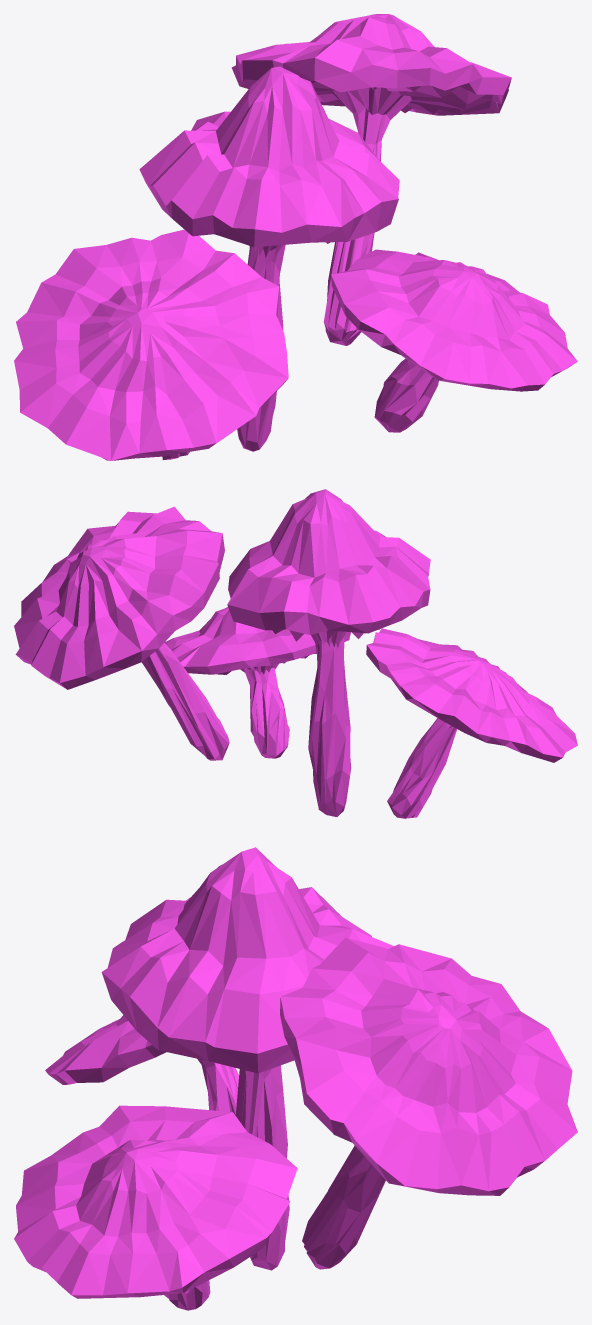
File: SM_Mushroom_Glow_Medium_Cluster_A_Fantasy.fbx
3 renders of one model, top to bottom at view 1: azimuth 30°, elevation 25°; view 2: azimuth 150°, elevation 25°; view 3: azimuth 270°, elevation 25°, orthographic. The views are drawn at different scales.
Visible parts, largest first — view 1: SM_Mushroom_Glow_Medium_Cluster_A_Fantasy; view 2: SM_Mushroom_Glow_Medium_Cluster_A_Fantasy; view 3: SM_Mushroom_Glow_Medium_Cluster_A_Fantasy.
Part boxes in pixels (x1,y1,x2,y2): SM_Mushroom_Glow_Medium_Cluster_A_Fantasy: (14,14,577,460); SM_Mushroom_Glow_Medium_Cluster_A_Fantasy: (14,489,577,818); SM_Mushroom_Glow_Medium_Cluster_A_Fantasy: (14,847,577,1310).
Size of the model in its own units: 2.49 by 1.59 by 1.9.
